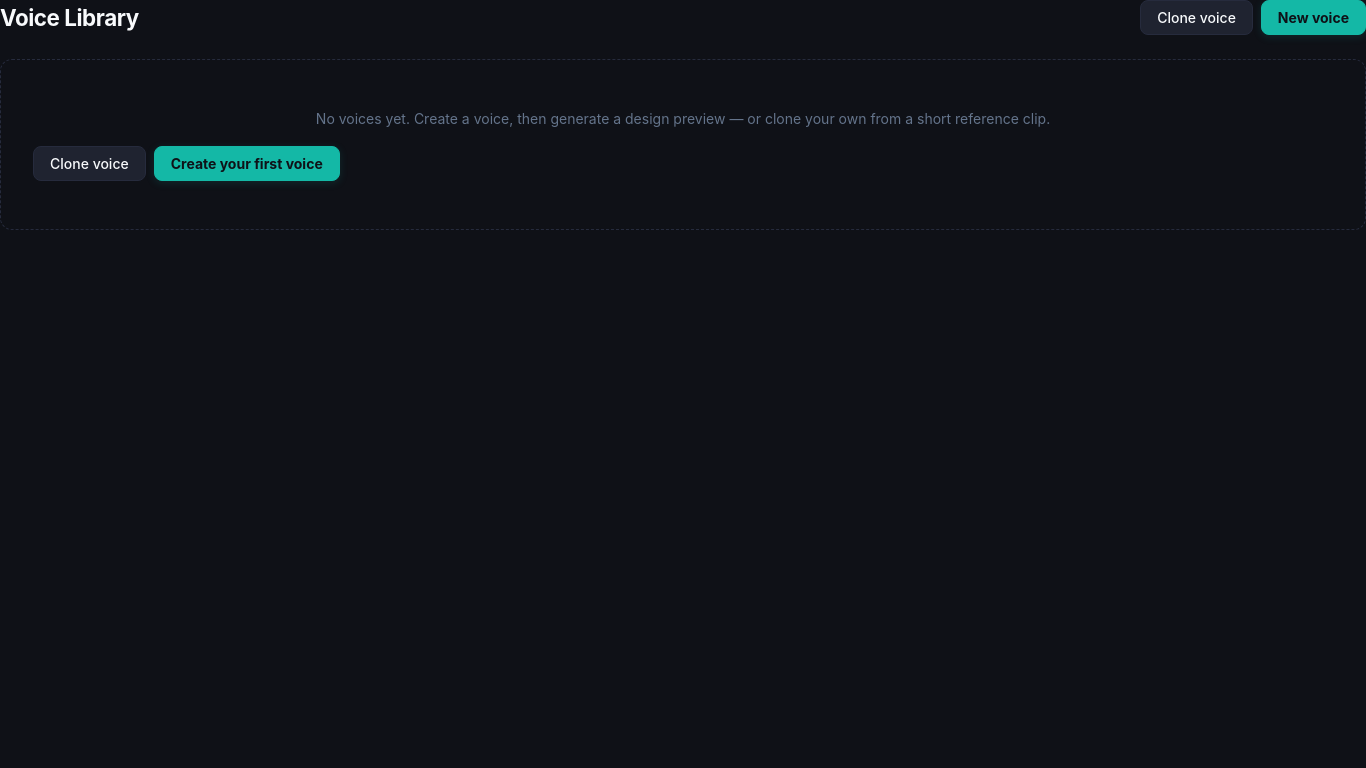
it: VoiceLibraryPage — create & design › creates the voice then starts design with the same fields
The image size is (1366, 768).
Click the button "New voice" at (1313, 18), box x1=1261 y1=0 x2=1365 y2=35
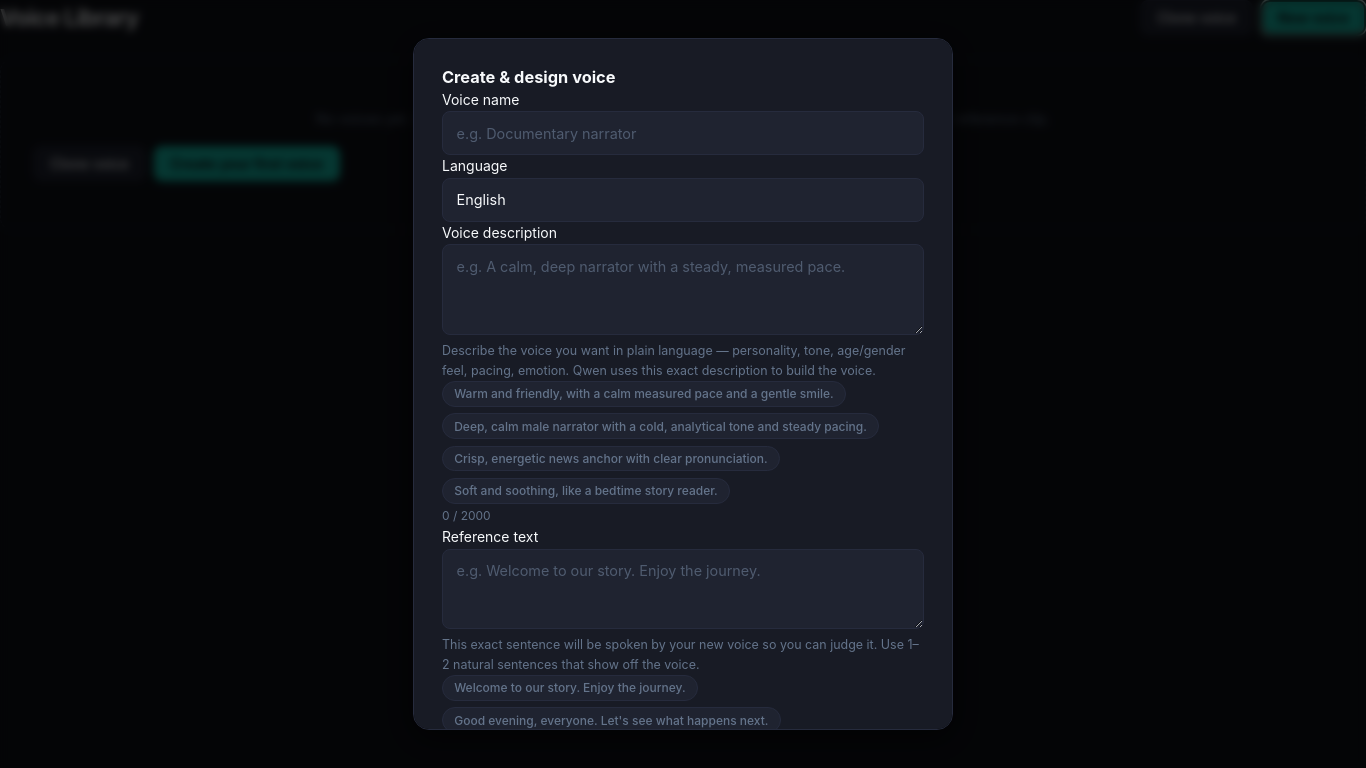
Type "Narrator" into the field named "voice name" at (683, 133), box x1=442 y1=111 x2=924 y2=155
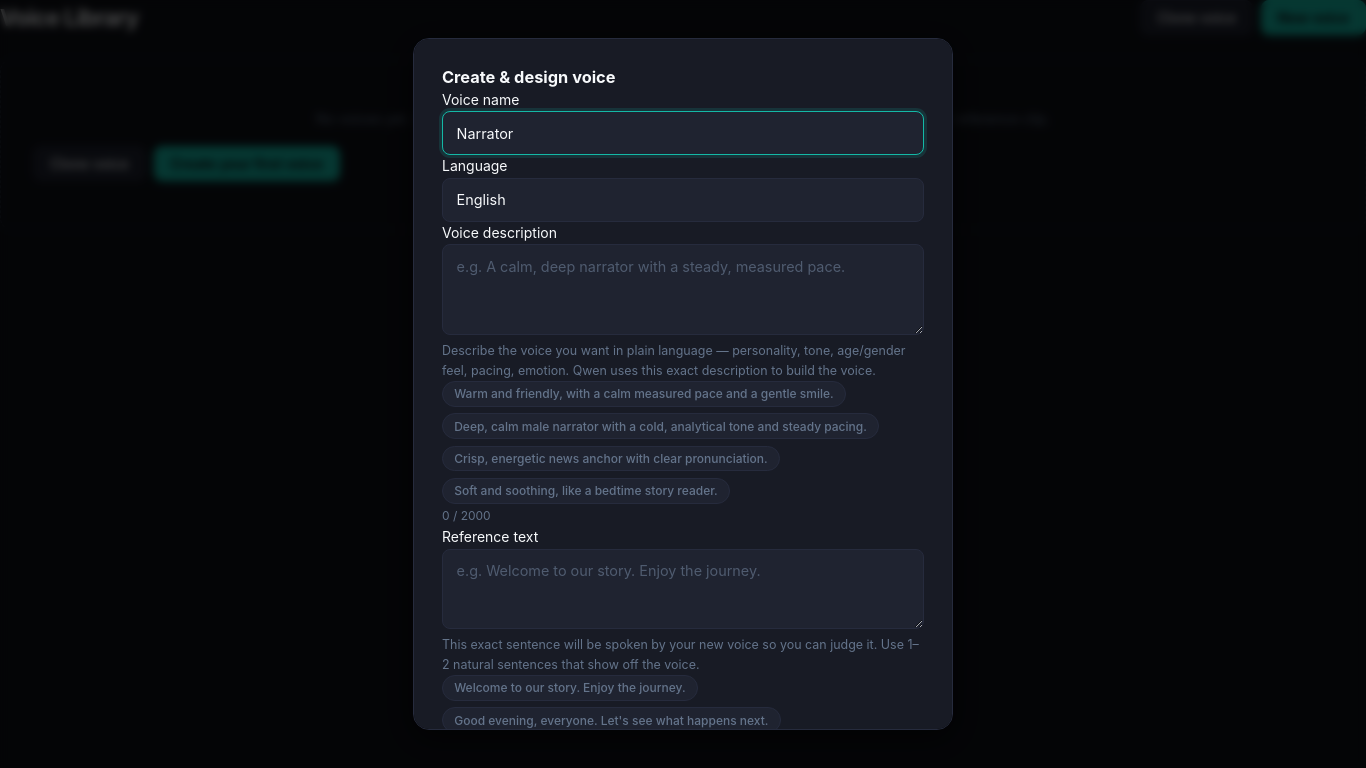
Type "A calm voice" into the text box named "voice description" at (683, 289), box x1=442 y1=244 x2=924 y2=334
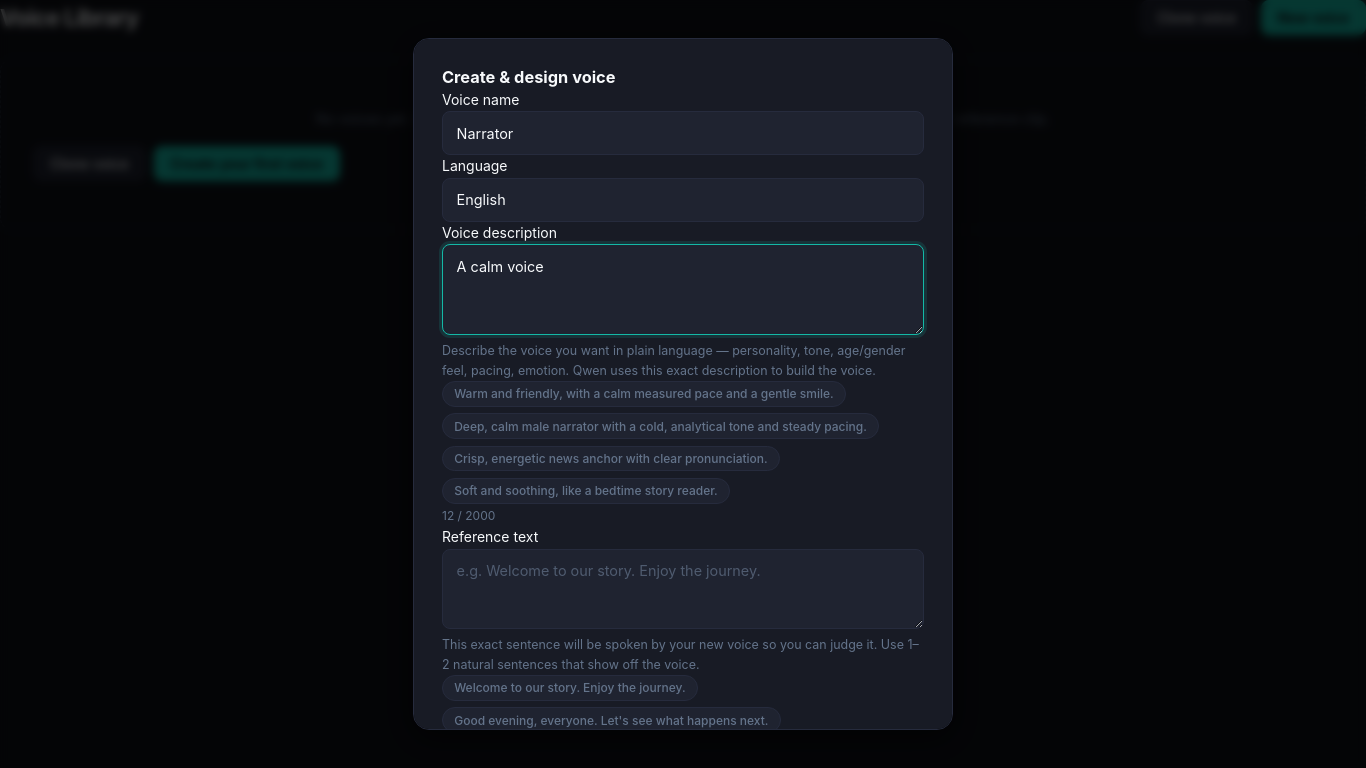
Type "Hello world" into the text box named "reference text" at (683, 589), box x1=442 y1=549 x2=924 y2=629
(page scrolled)
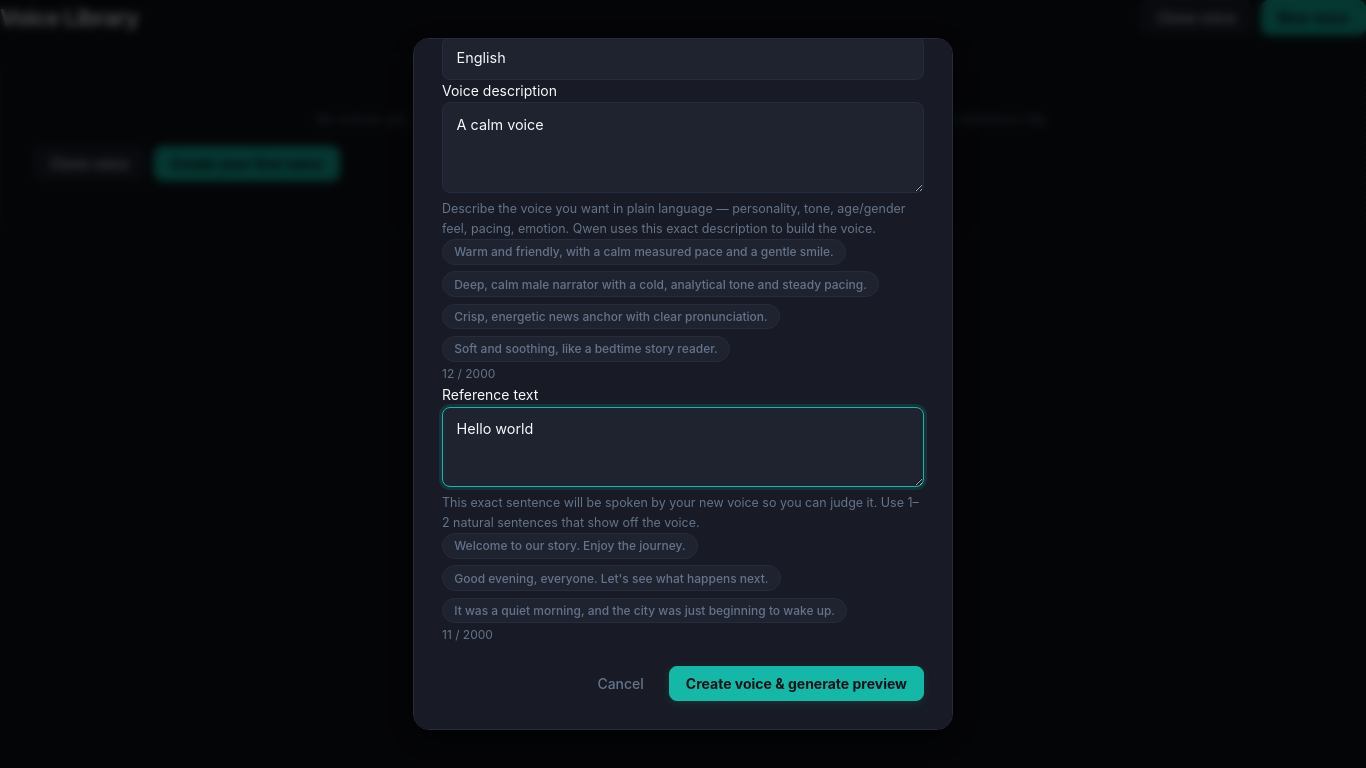
Click the button "Create voice & generate preview" at (796, 683), box x1=669 y1=666 x2=924 y2=701
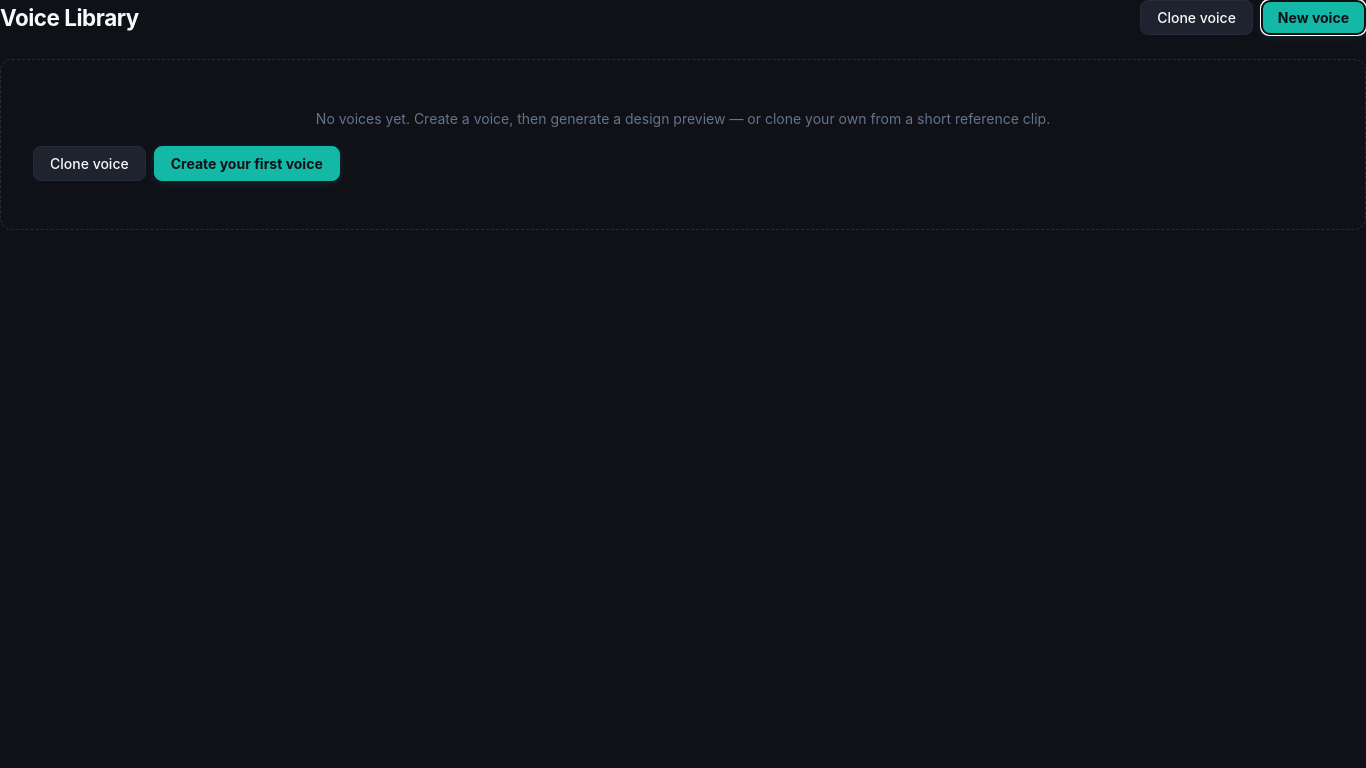
Check: the dialog is gone
